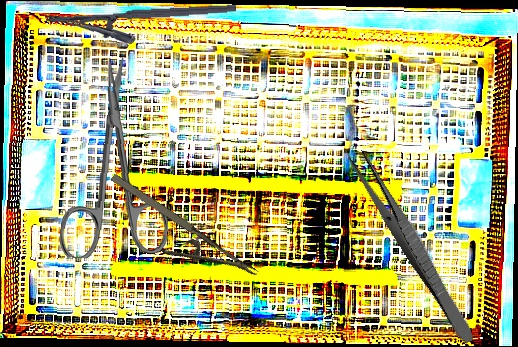Dressing Forceps: (345, 146, 482, 347)
Iris Scissors: (59, 56, 174, 261)
Needle Holder: (94, 169, 259, 305), (45, 3, 238, 49)
